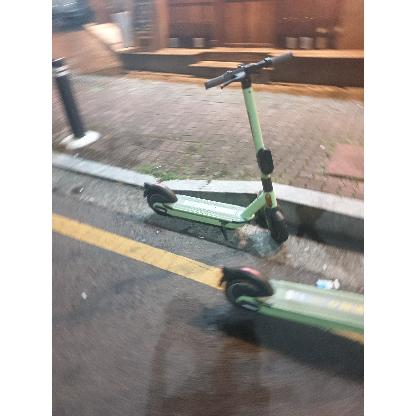bike: (143, 51, 294, 246)
